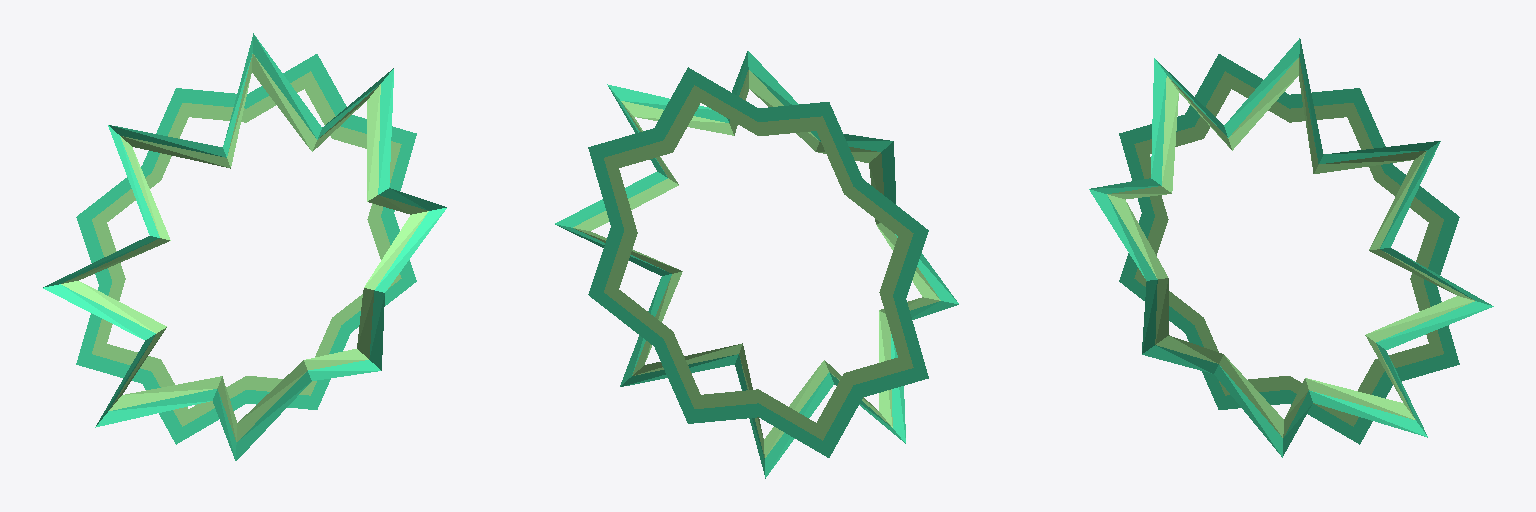
Rendered from Shield.obj.
3 renders of one model, left to right at view 1: azimuth 30°, elevation 25°; view 2: azimuth 150°, elevation 25°; view 3: azimuth 330°, elevation 25°, orthographic.
Parts seen in each view (by area): view 1: Circle.001, Circle; view 2: Circle, Circle.001; view 3: Circle.001, Circle.
Part boxes in pixels (x1,y1,x2,y2): Circle.001: (43, 33, 446, 460); Circle: (76, 54, 416, 444); Circle: (588, 67, 928, 457); Circle.001: (555, 51, 958, 478); Circle.001: (1089, 38, 1493, 457); Circle: (1119, 54, 1459, 444).
Size of the model in its own units: 49.96 by 49.96 by 4.84.